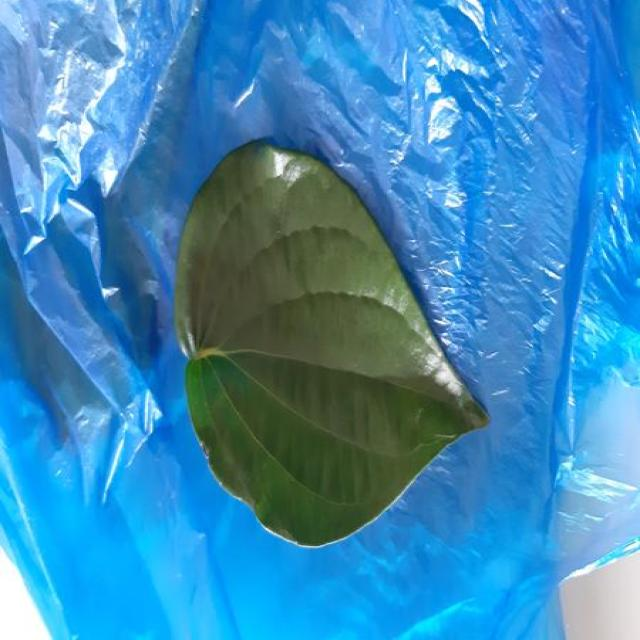betel: (175, 142, 488, 546)
